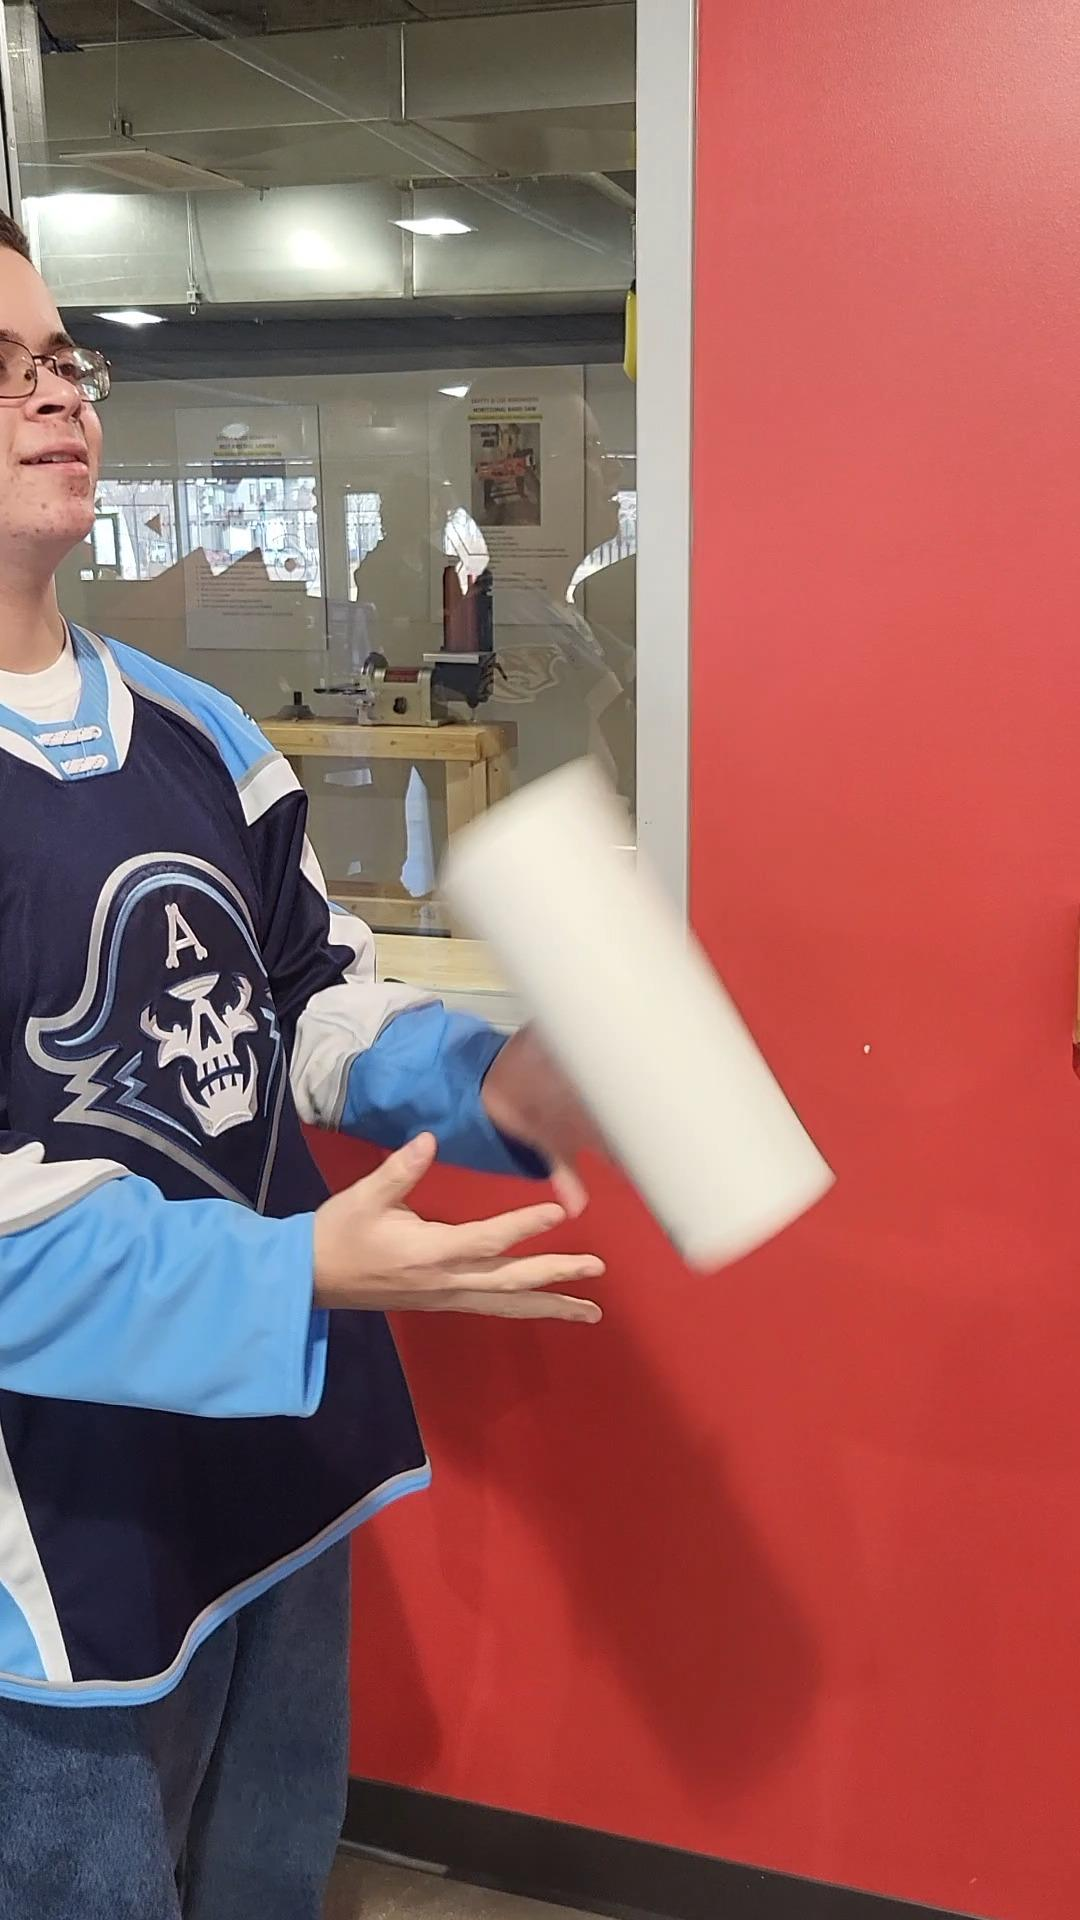coral: (430, 744, 851, 1283)
